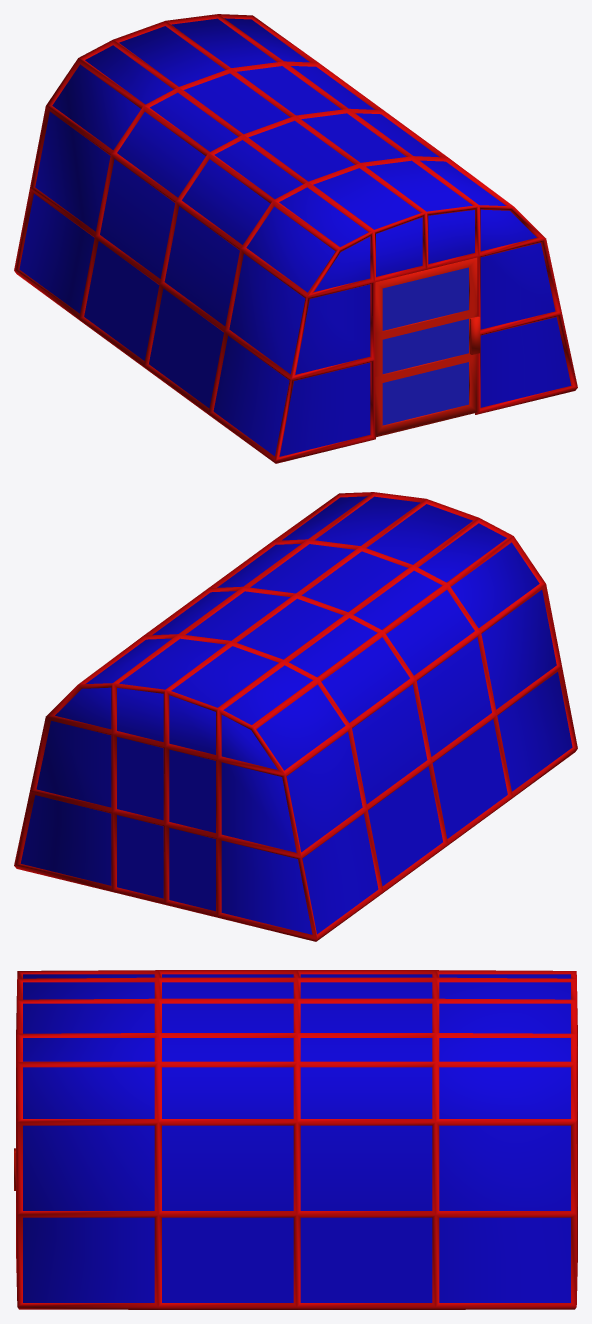
Rendered from Greenhouse.fbx.
3 views of the same model, one above another, from view 1: azimuth 30°, elevation 25°; view 2: azimuth 150°, elevation 25°; view 3: azimuth 270°, elevation 25° (orthographic). The views are drawn at different scales.
Parts seen in each view (by area): view 1: Greenhouse, Greenhouse.002; view 2: Greenhouse; view 3: Greenhouse.
Boxes of the visible parts, x1,y1,x2,y2 form: Greenhouse: (14,14,577,463); Greenhouse.002: (375,257,480,437); Greenhouse: (14,492,577,941); Greenhouse: (16,970,577,1309).
Bounding box in the file's own units: 4.07 × 2.78 × 6.1.
